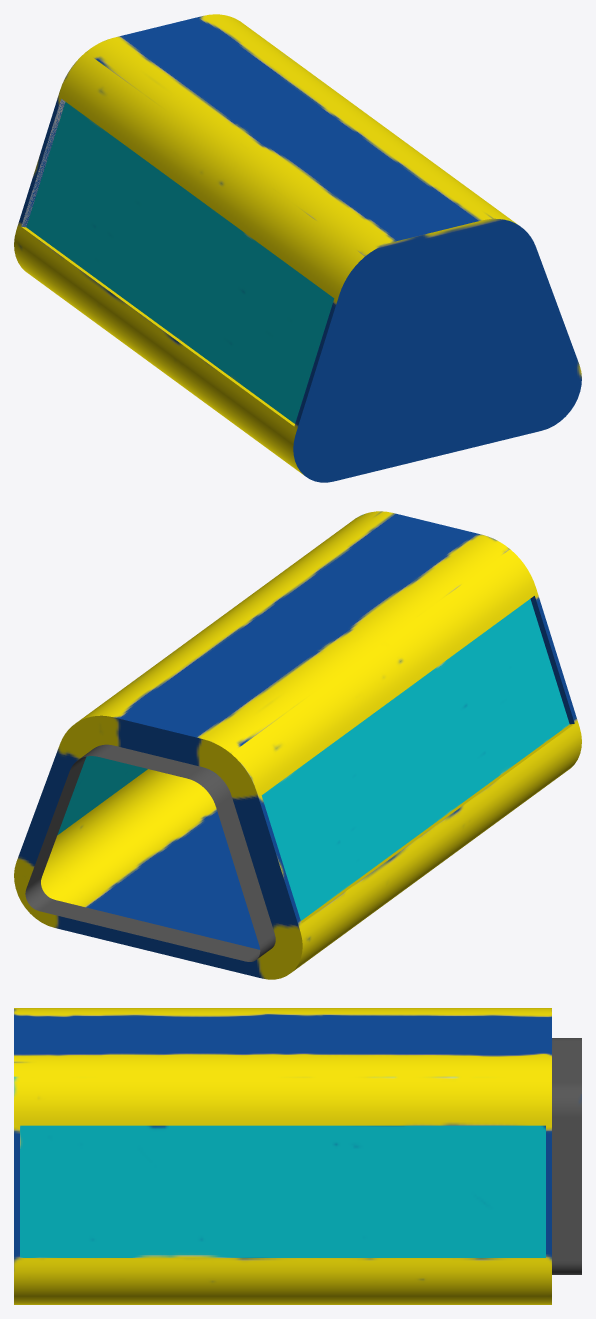
Rendered from Carriage_Beta_01.fbx.
3 views of the same model, one above another, from view 1: azimuth 30°, elevation 25°; view 2: azimuth 150°, elevation 25°; view 3: azimuth 270°, elevation 25° (orthographic). The views are drawn at different scales.
Parts seen in each view (by area): view 1: polySurface3, polySurface6; view 2: polySurface3; view 3: polySurface3.
Part boxes in pixels (bbox=[...]): polySurface3: bbox=[14, 14, 581, 482]; polySurface6: bbox=[21, 99, 65, 227]; polySurface3: bbox=[14, 511, 581, 979]; polySurface3: bbox=[14, 1008, 581, 1304].
Bounding box in the file's own units: 537 × 400 × 950.
Materials: 2 (1 with a texture image).
